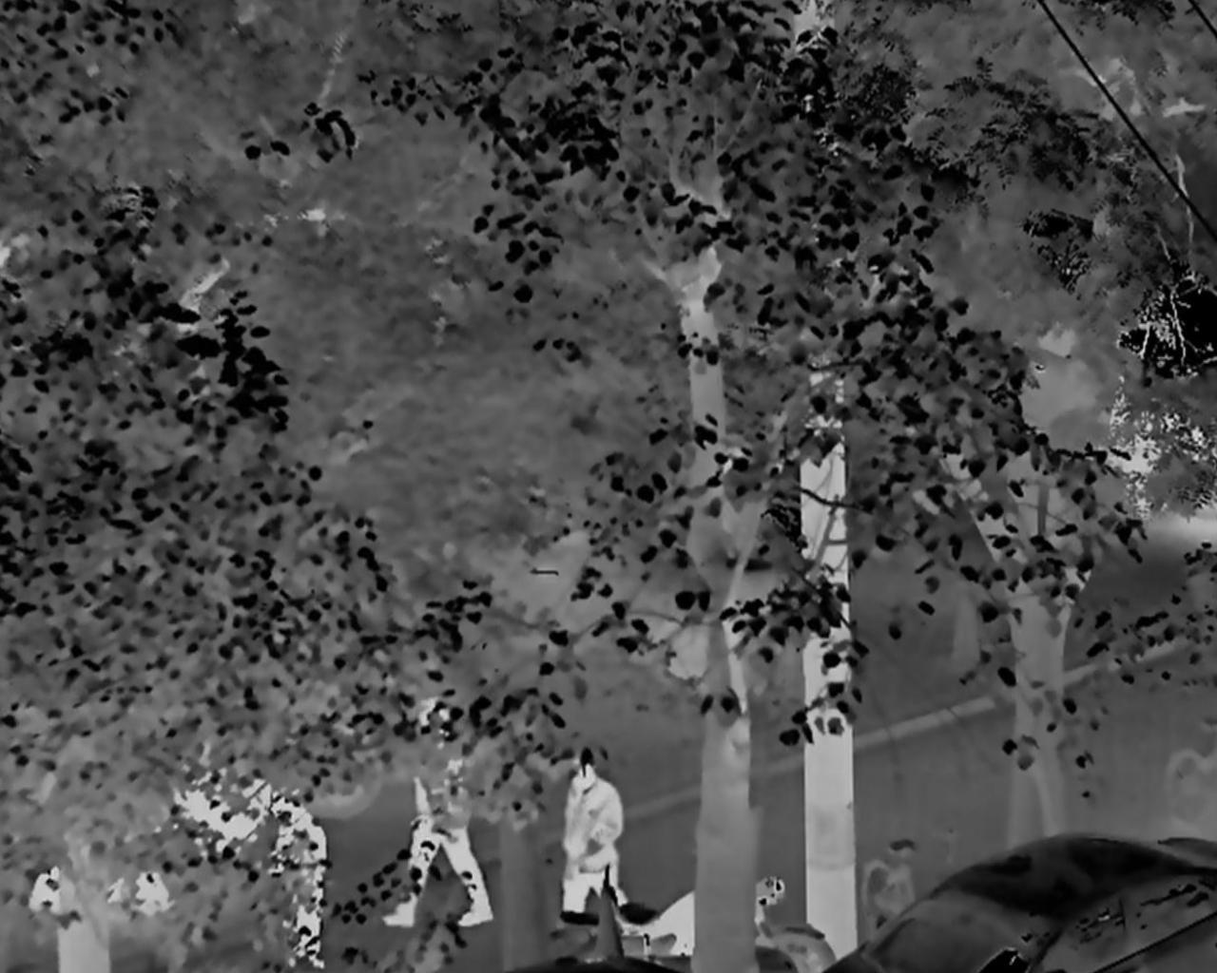person: (379, 701, 495, 929), (263, 790, 329, 969), (559, 754, 628, 916)
